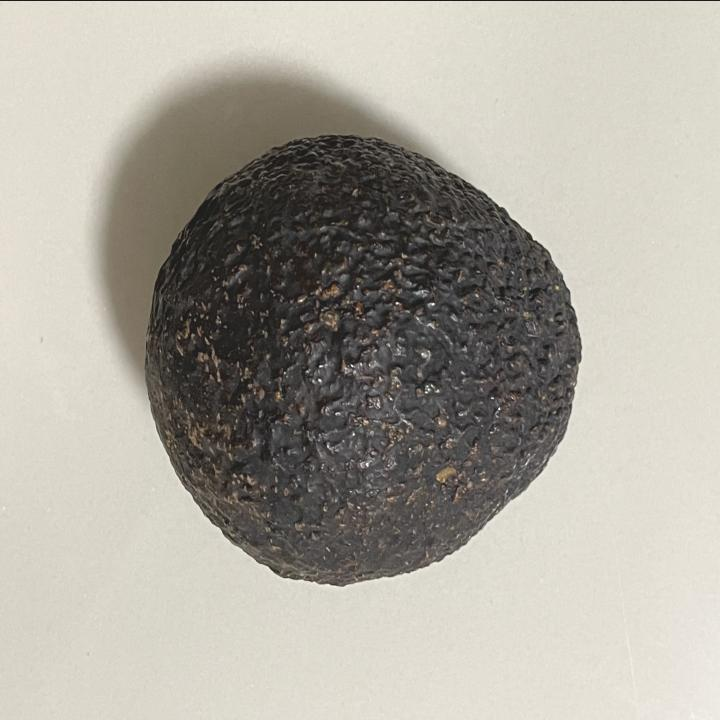Level3: (134, 119, 592, 601)
